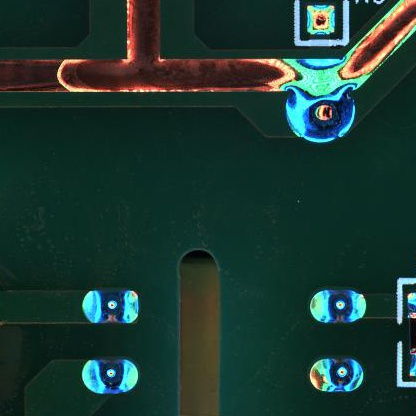spot: (285, 83, 357, 144), (81, 357, 139, 394), (309, 290, 368, 325), (81, 291, 141, 324), (310, 359, 363, 394)
